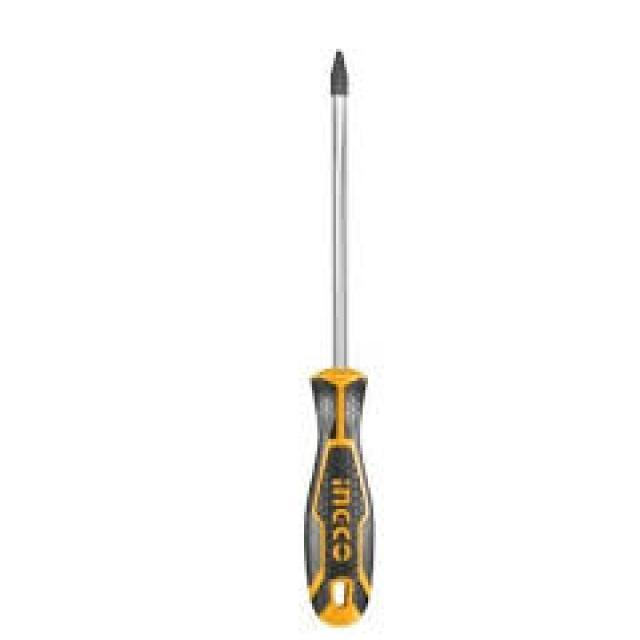screwdriver: (300, 45, 378, 632)
